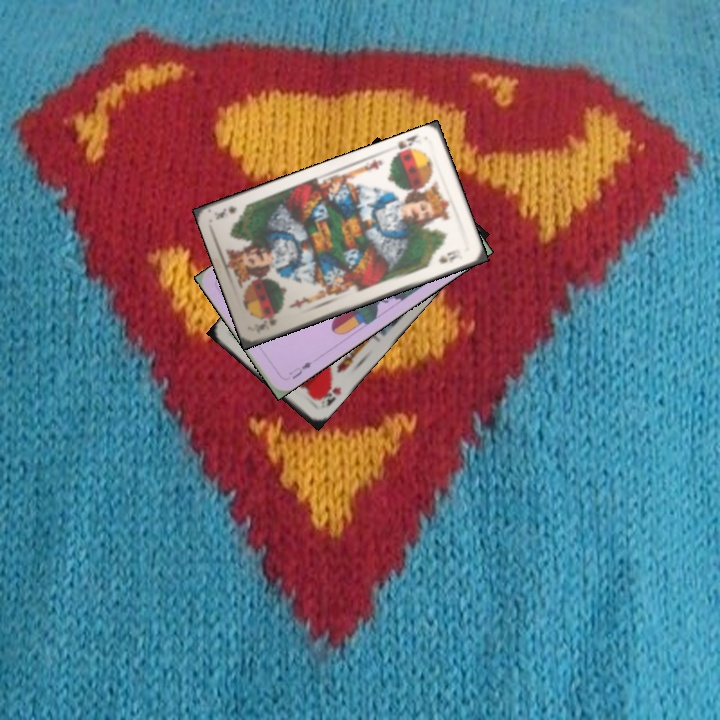EU: (285, 357, 314, 382)
HK: (314, 378, 344, 409)
SK: (390, 131, 422, 160), (256, 312, 280, 332)
